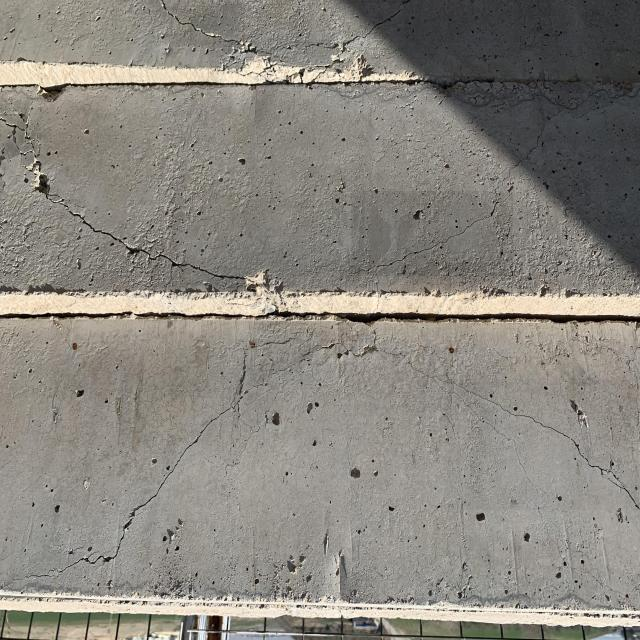diagonal crack: (15, 399, 240, 579), (2, 116, 245, 281), (444, 379, 639, 509), (351, 191, 513, 276), (162, 1, 244, 46), (340, 3, 403, 47)
horizontal crack: (311, 342, 379, 361)
vertical crack: (372, 267, 381, 313)
